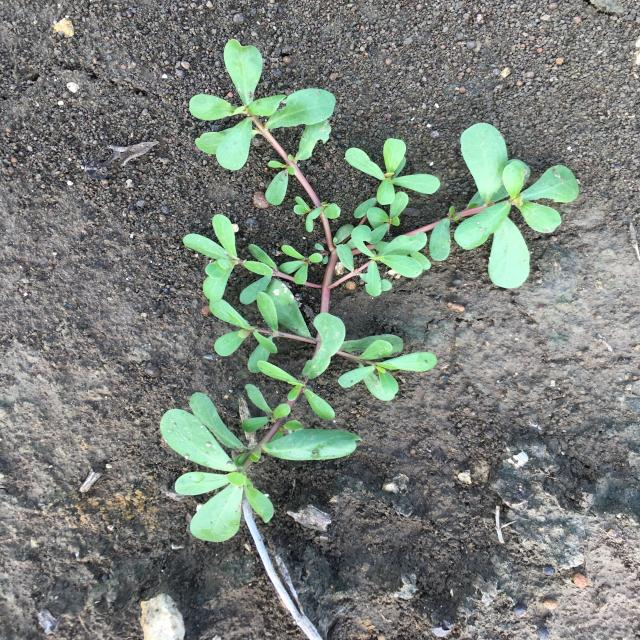Purslane: (160, 39, 580, 542)
